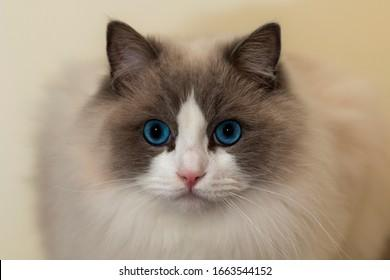ragdoll: (93, 11, 293, 219)
